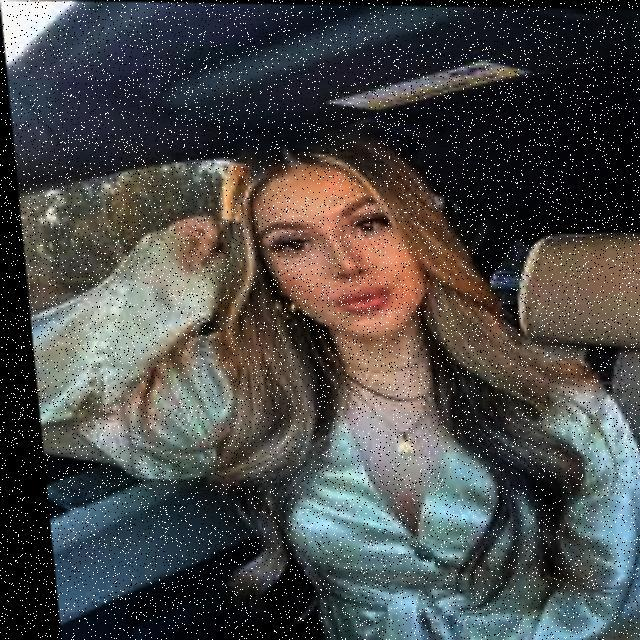noSeatbelt: (188, 332, 640, 640)
